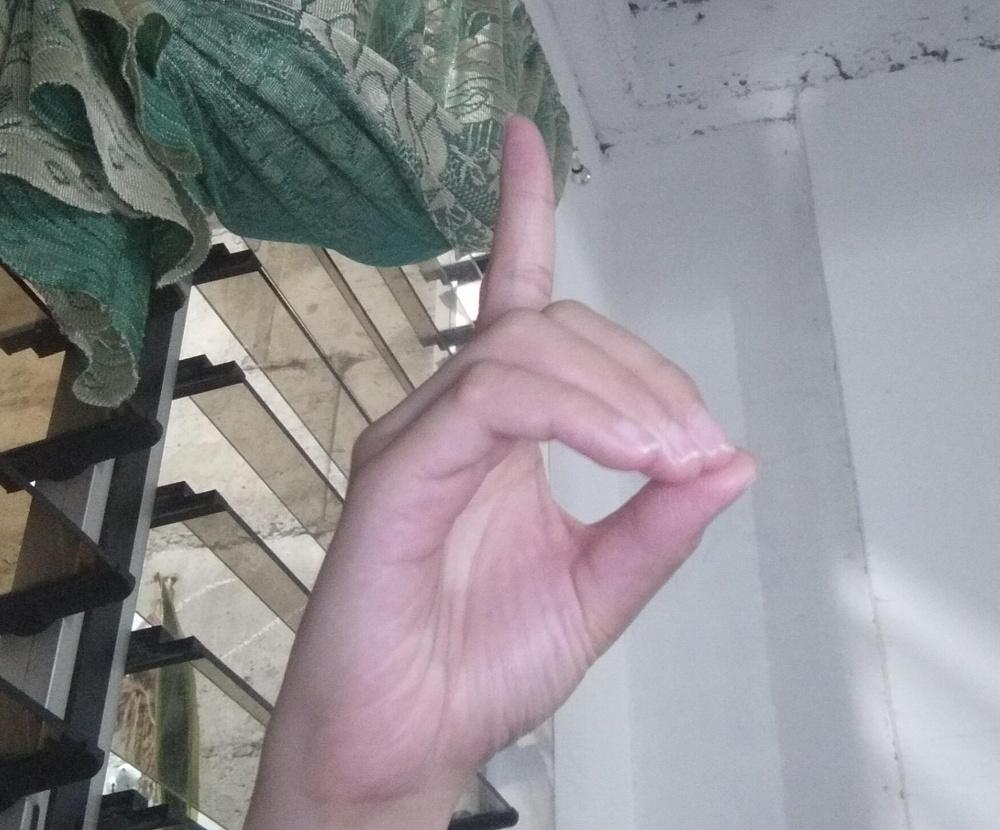d: (260, 112, 758, 787)
